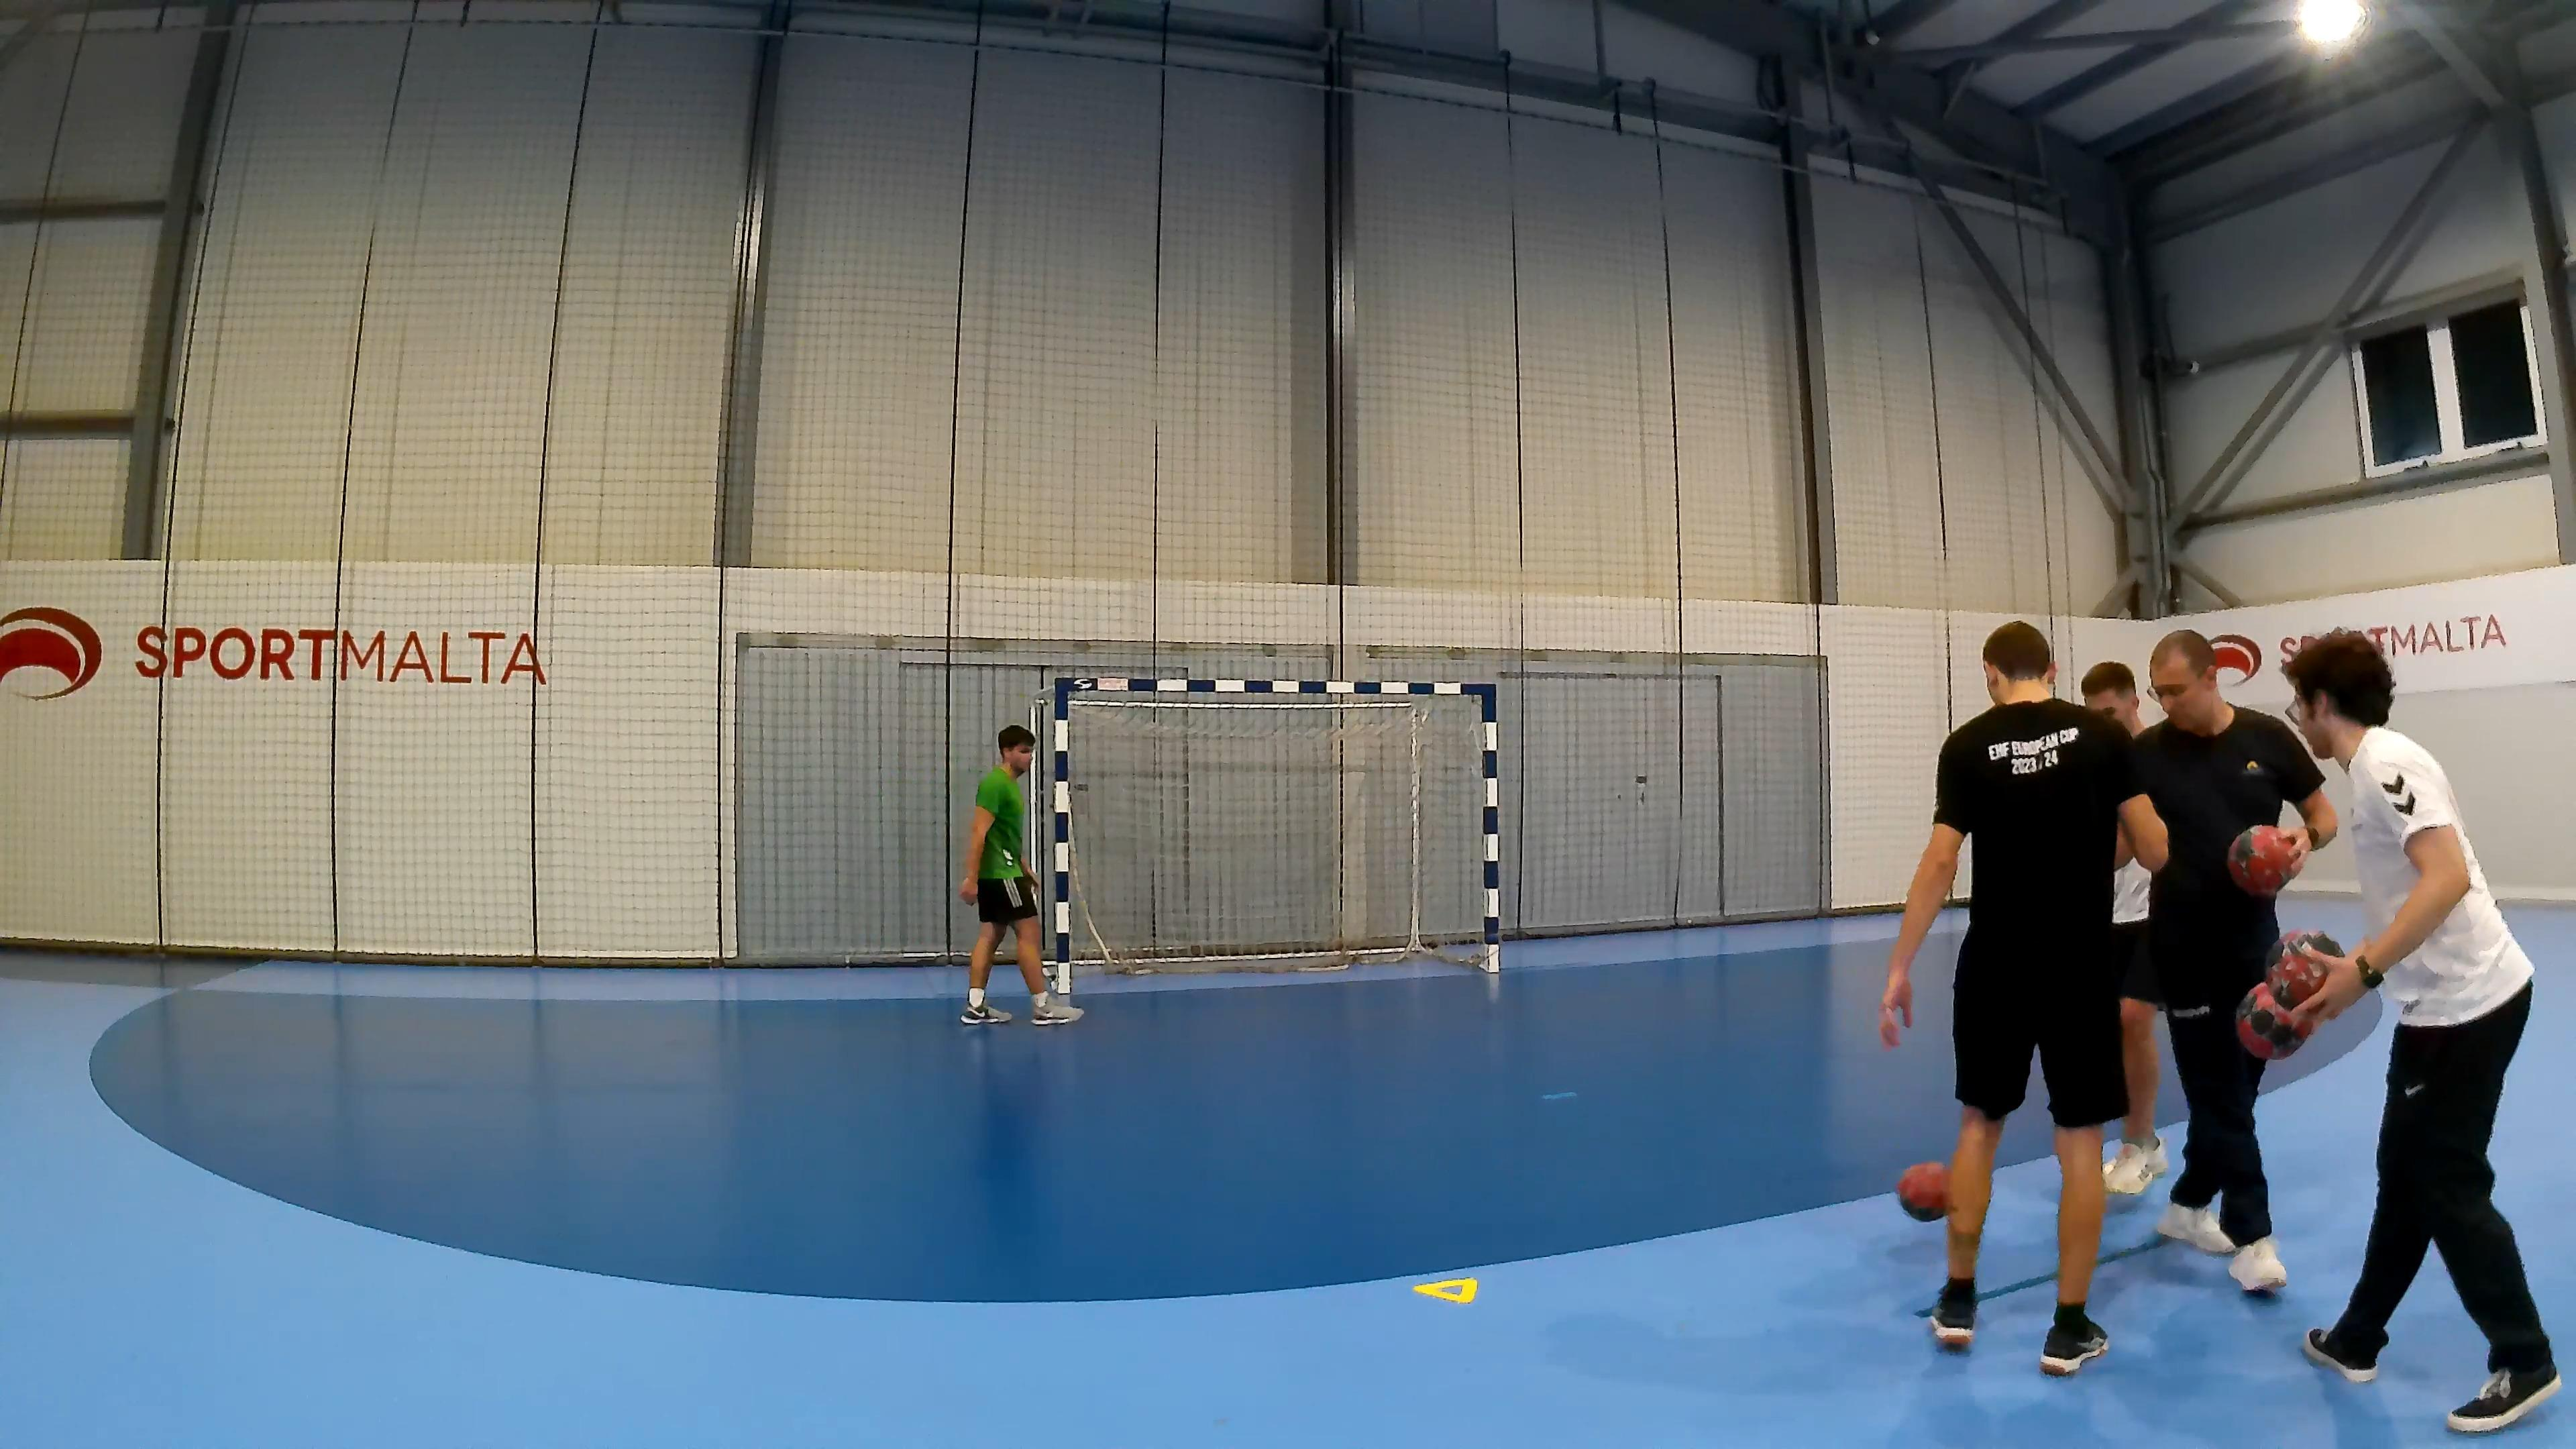handball: (2235, 927, 2344, 1062), (2226, 823, 2302, 897), (1897, 1161, 1951, 1221)
